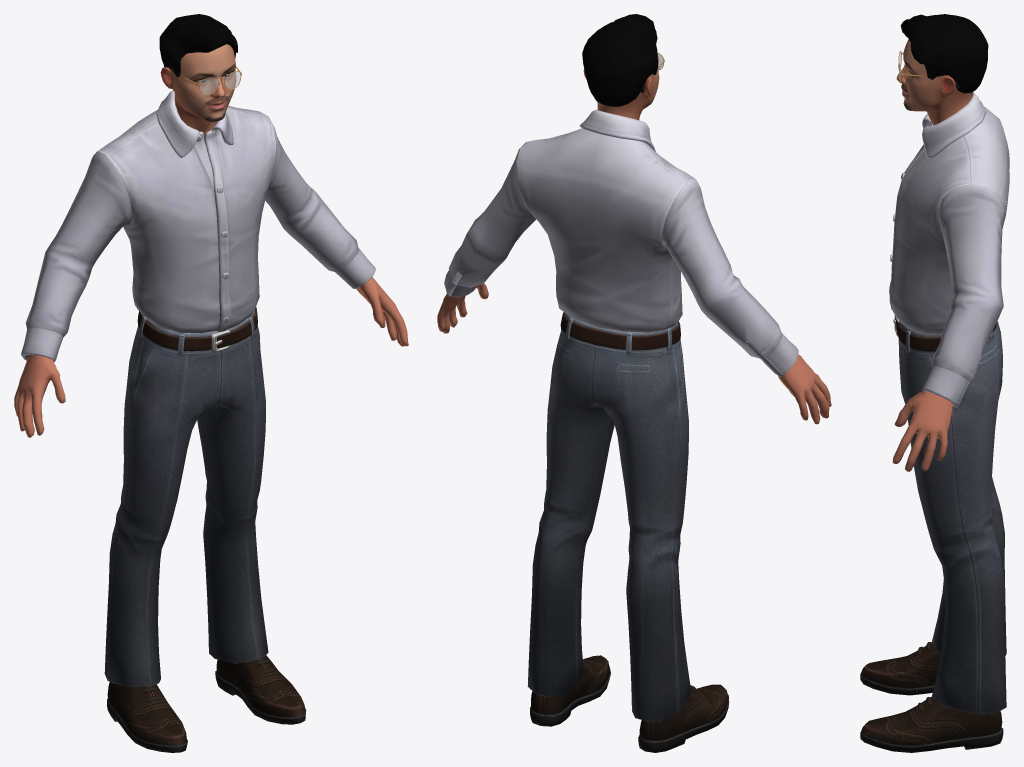
The model's file is avatar-model.glb.
3 views of the same model, side by side, from view 1: azimuth 30°, elevation 25°; view 2: azimuth 150°, elevation 25°; view 3: azimuth 270°, elevation 25° (orthographic).
Visible parts, largest first — view 1: Wolf3D_Outfit_Top, Wolf3D_Outfit_Bottom, Wolf3D_Outfit_Footwear, Wolf3D_Head, Wolf3D_Body, Wolf3D_Hair; view 2: Wolf3D_Outfit_Bottom, Wolf3D_Outfit_Top, Wolf3D_Outfit_Footwear, Wolf3D_Hair, Wolf3D_Body, Wolf3D_Head; view 3: Wolf3D_Outfit_Top, Wolf3D_Outfit_Bottom, Wolf3D_Outfit_Footwear, Wolf3D_Hair, Wolf3D_Body, Wolf3D_Head.
Part boxes in pixels (<box>): Wolf3D_Outfit_Top: <box>21,90,375,362</box>; Wolf3D_Outfit_Bottom: <box>104,307,268,687</box>; Wolf3D_Outfit_Footwear: <box>107,654,306,752</box>; Wolf3D_Head: <box>160,44,236,136</box>; Wolf3D_Body: <box>14,277,408,437</box>; Wolf3D_Hair: <box>159,14,237,76</box>; Wolf3D_Outfit_Bottom: <box>527,312,691,722</box>; Wolf3D_Outfit_Top: <box>444,109,798,376</box>; Wolf3D_Outfit_Footwear: <box>530,655,729,752</box>; Wolf3D_Hair: <box>582,14,657,106</box>; Wolf3D_Body: <box>437,283,831,424</box>; Wolf3D_Head: <box>583,53,659,120</box>; Wolf3D_Outfit_Top: <box>889,92,1009,407</box>; Wolf3D_Outfit_Bottom: <box>893,315,1006,714</box>; Wolf3D_Outfit_Footwear: <box>860,642,1003,752</box>; Wolf3D_Hair: <box>900,14,988,93</box>; Wolf3D_Body: <box>892,391,953,471</box>; Wolf3D_Head: <box>896,39,973,125</box>.
Bounding box in the file's own units: 1.06 × 1.85 × 0.3595.
Materials: 9 (9 with a texture image).
